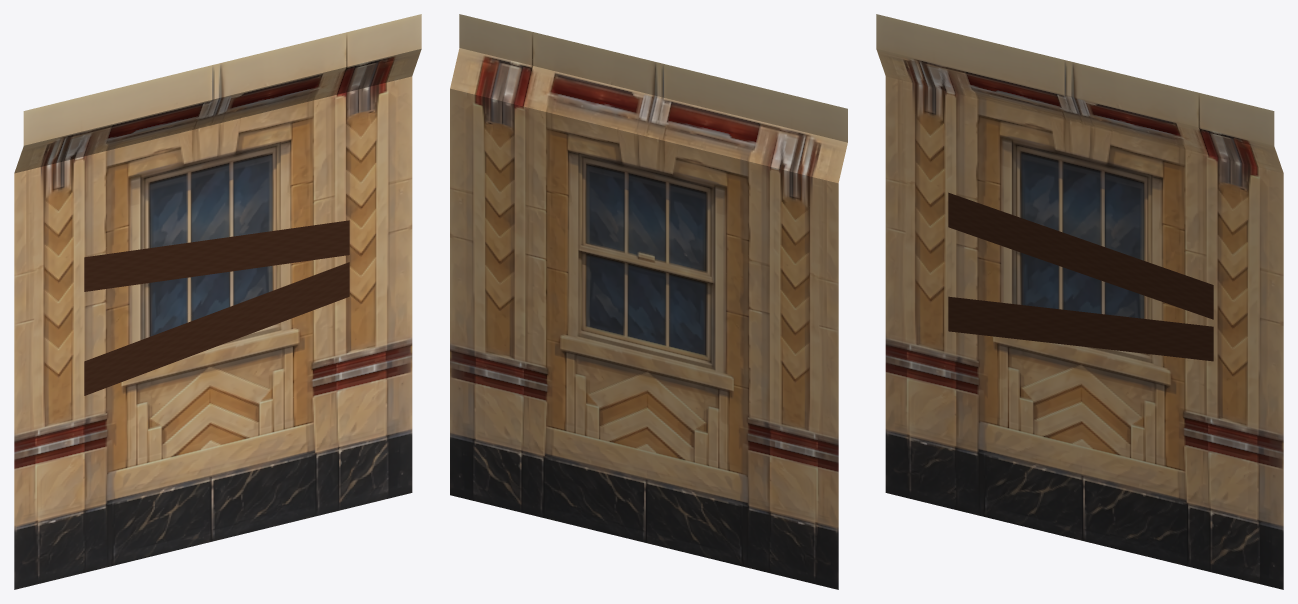
The model's file is DECO_Damaged_U_Bay3.fbx.
3 views of the same model, side by side, from view 1: azimuth 30°, elevation 25°; view 2: azimuth 150°, elevation 25°; view 3: azimuth 330°, elevation 25° (orthographic). The views are drawn at different scales.
Parts seen in each view (by area): view 1: DECO_Damaged_U_Bay3; view 2: DECO_Damaged_U_Bay3; view 3: DECO_Damaged_U_Bay3.
Boxes of the visible parts, x1,y1,x2,y2 form: DECO_Damaged_U_Bay3: (14,14,421,589); DECO_Damaged_U_Bay3: (450,14,847,589); DECO_Damaged_U_Bay3: (876,14,1283,589).
Size of the model in its own units: 3 by 0.125 by 3.5.
1 material, 1 textured.
